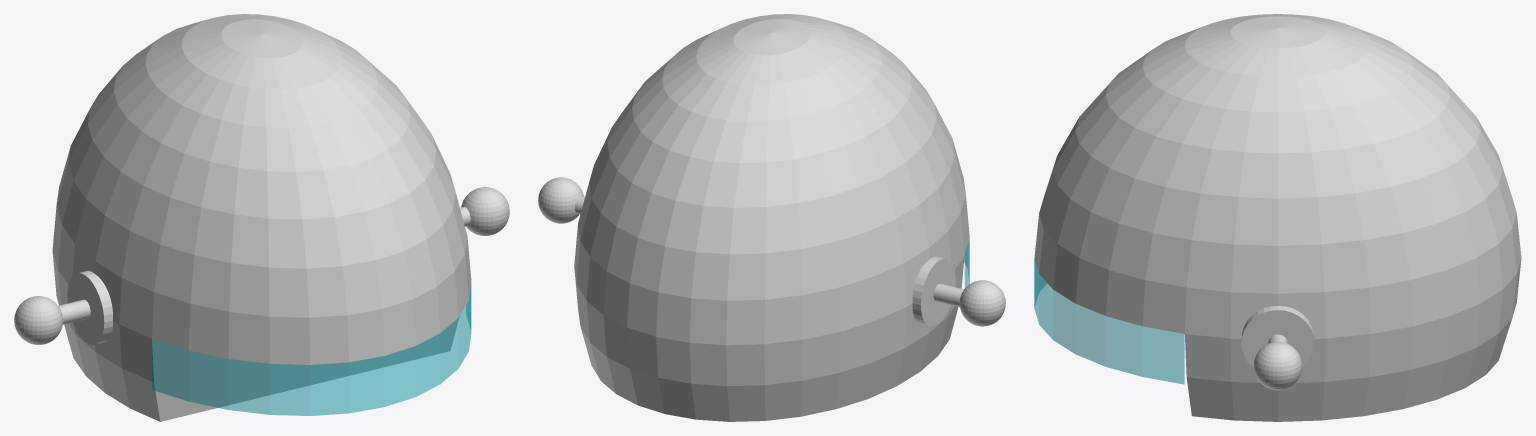
Rendered from space helmet.fbx.
3 renders of one model, left to right at view 1: azimuth 30°, elevation 25°; view 2: azimuth 150°, elevation 25°; view 3: azimuth 270°, elevation 25°, orthographic. The views are drawn at different scales.
Visible parts, largest first — view 1: Sphere.001, Sphere.002, Sphere.005, Cylinder, Sphere.004, Sphere.003, Cylinder.001; view 2: Sphere.001, Sphere.005, Cylinder, Sphere.004, Sphere.003, Cylinder.001; view 3: Sphere.001, Sphere.005, Sphere.002, Cylinder, Sphere.003.
Part boxes in pixels (bbox=[...]): Sphere.001: bbox=[52, 14, 471, 421]; Sphere.002: bbox=[152, 284, 471, 415]; Sphere.005: bbox=[68, 109, 455, 267]; Cylinder: bbox=[67, 270, 112, 344]; Sphere.004: bbox=[14, 296, 63, 344]; Sphere.003: bbox=[461, 187, 509, 235]; Cylinder.001: bbox=[58, 207, 470, 324]; Sphere.001: bbox=[574, 14, 969, 421]; Sphere.005: bbox=[589, 104, 954, 248]; Cylinder: bbox=[912, 256, 955, 326]; Sphere.004: bbox=[959, 280, 1005, 326]; Sphere.003: bbox=[538, 177, 583, 223]; Cylinder.001: bbox=[575, 196, 963, 307]; Sphere.001: bbox=[1034, 14, 1521, 421]; Sphere.005: bbox=[1091, 168, 1436, 245]; Sphere.002: bbox=[1034, 258, 1184, 384]; Cylinder: bbox=[1241, 306, 1314, 367]; Sphere.003: bbox=[1253, 341, 1302, 390].
Size of the model in its own units: 2.3 by 1.44 by 2.
